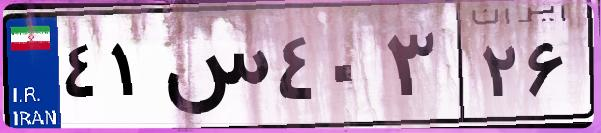0: (330, 28, 385, 110)
1: (110, 28, 158, 98)
2: (475, 38, 525, 113)
3: (385, 28, 445, 110)
4: (270, 28, 330, 110), (57, 26, 110, 100)
6: (525, 38, 570, 115)
س: (158, 20, 270, 120)
